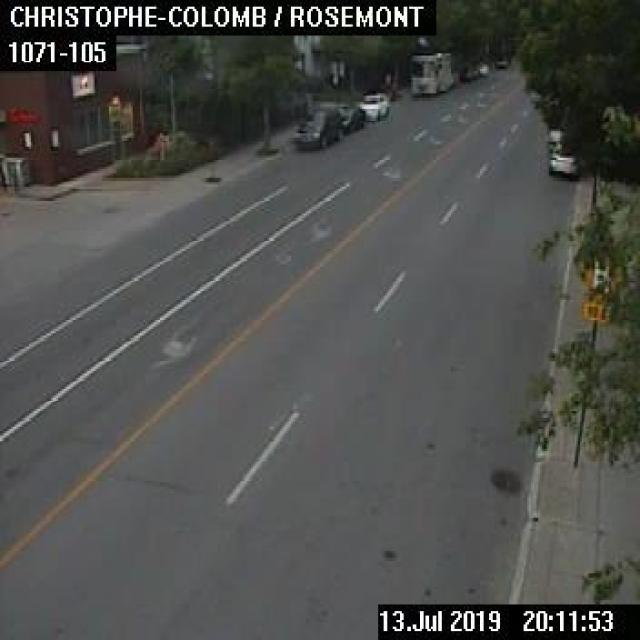vehicle: (292, 108, 340, 147), (410, 52, 451, 94), (547, 151, 578, 176), (360, 92, 388, 119), (338, 104, 363, 132), (457, 66, 476, 81), (493, 54, 508, 66), (476, 63, 487, 74)
